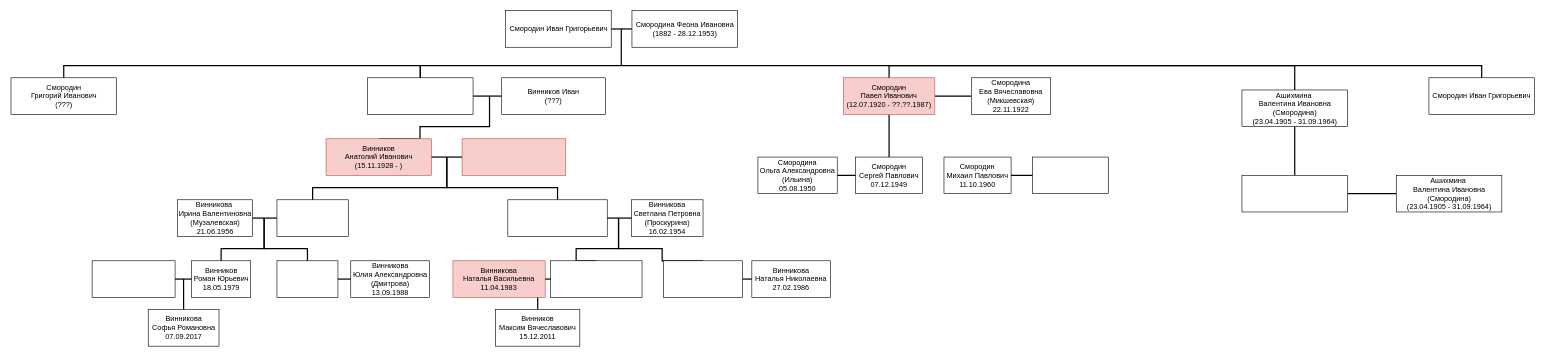
This 1545x357 diagram has some shape labels left out. Each missing label, with the centre of its shape:
Винников Владимир Анатольевич (25.12.1954 - 07.05.2018 ): the point at 557,217
Винников Вячеслав Владимирович 23.02.1983: the point at 596,278
Винников Игорь Юрьевич 10.06.1988: the point at 307,278
Винников Сергей Владимирович 21.02.1987: the point at 703,278
Винников Юрий Анатольевич 10.09.1956: the point at 312,217
Винникова Амина Ислямовна (05.06.1928 - ): the point at 513,156
Винникова Светлана Анатольевна (Чумаченко) 18.05.1979: the point at 133,278
Винникова Таисия Ивановна (Смородина) (07.11.1903 - 19.09.1974): the point at 420,95
Смородин Лилия Адфольфовна 13.06.1962: the point at 1070,175
Терсанова Валентина Ивановна (Смородина) (23.04.1905 - 31.09.1964): the point at 1294,193
